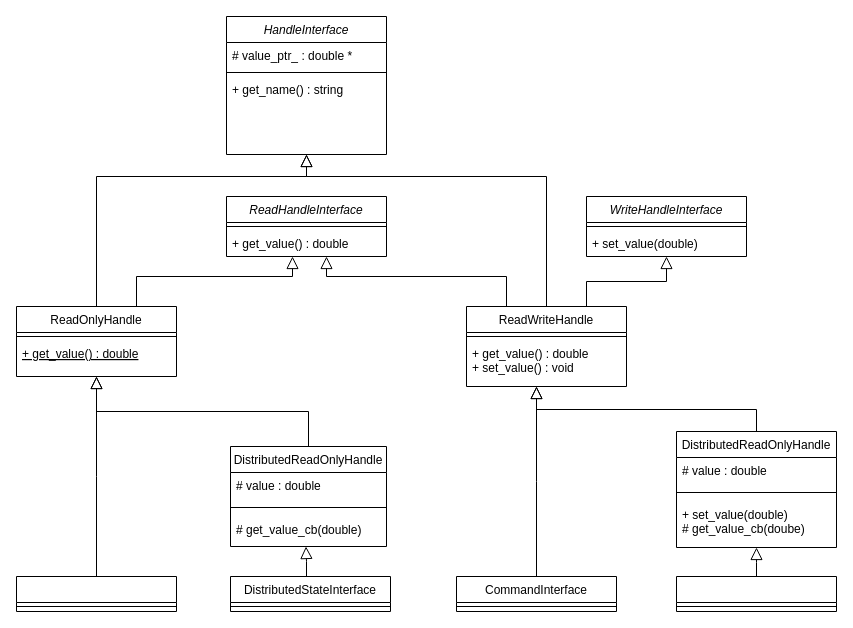
This 853x628 diagram has some shape labels left out. The shapes that lost their labels are listed below. From the top down, each one's centre as x and y in pixels, then its label:
At point (96, 594): "StateInterface".
At point (756, 594): "DistributedCommandInterface".
